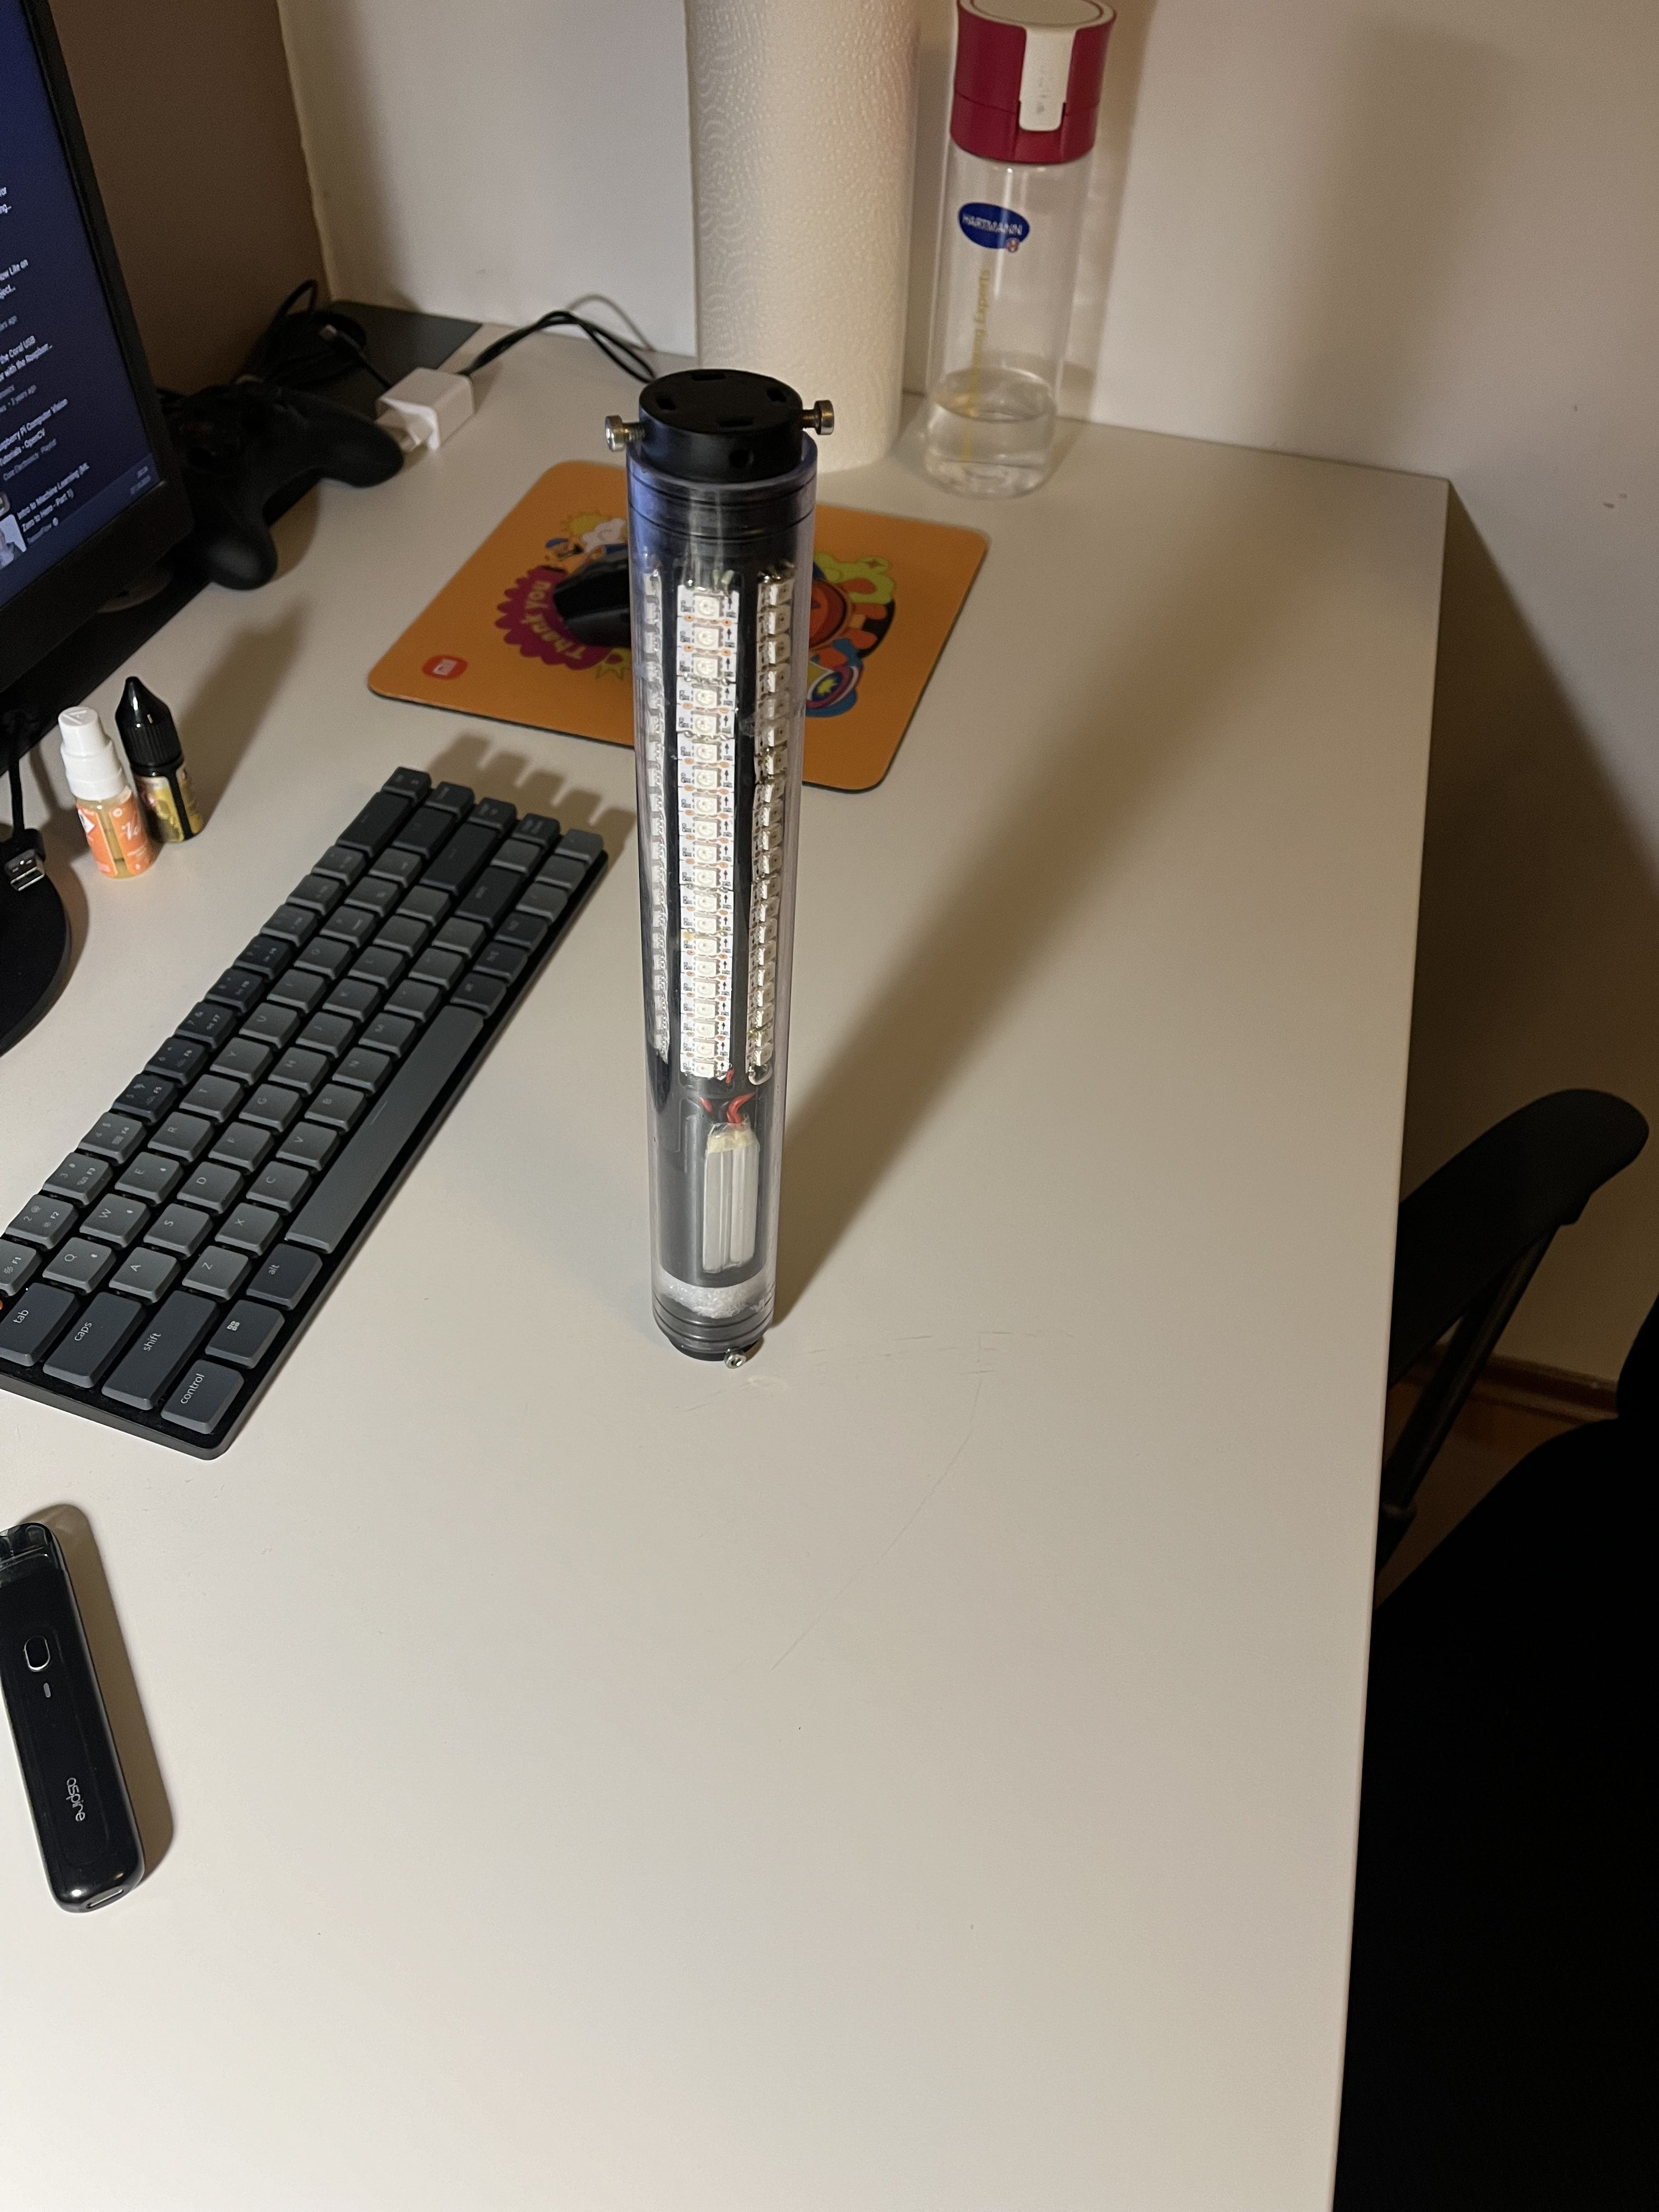black: (624, 449, 789, 1355)
